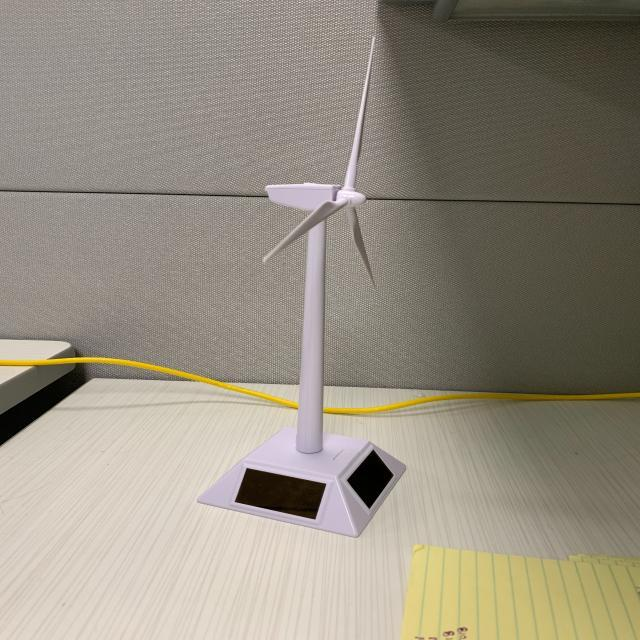solid-blade: (262, 203, 348, 262), (342, 36, 374, 192), (350, 208, 376, 287)
